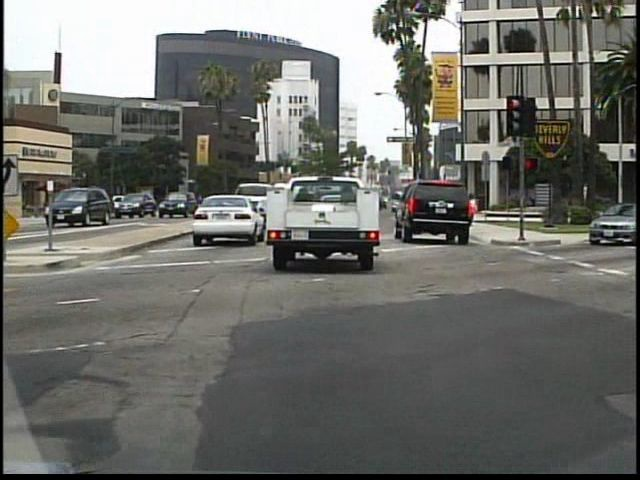person: (92, 189, 110, 222)
